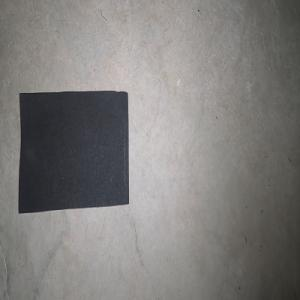PaintChip: (18, 90, 129, 213)
